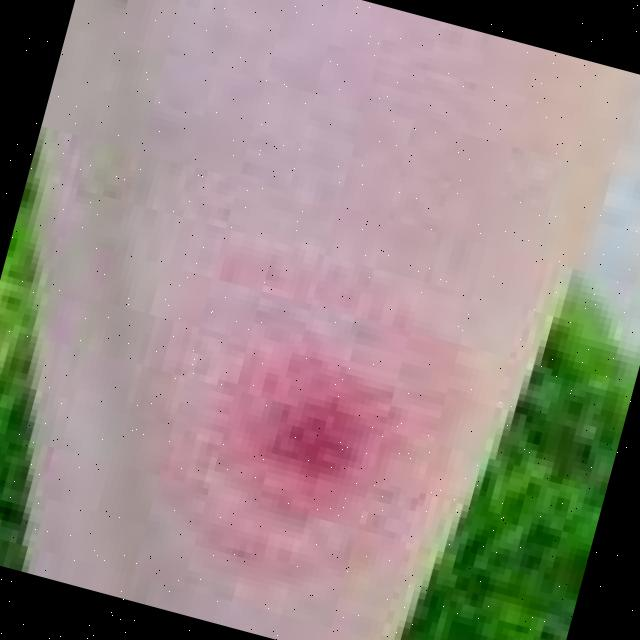kene: (109, 222, 487, 597)
